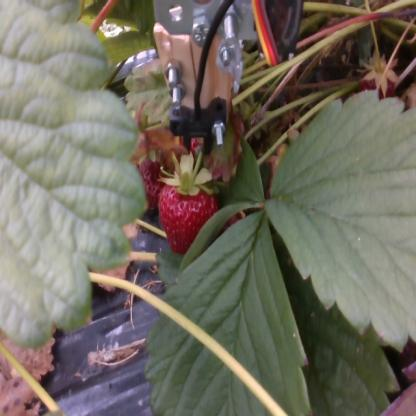ripe: (160, 177, 222, 252)
